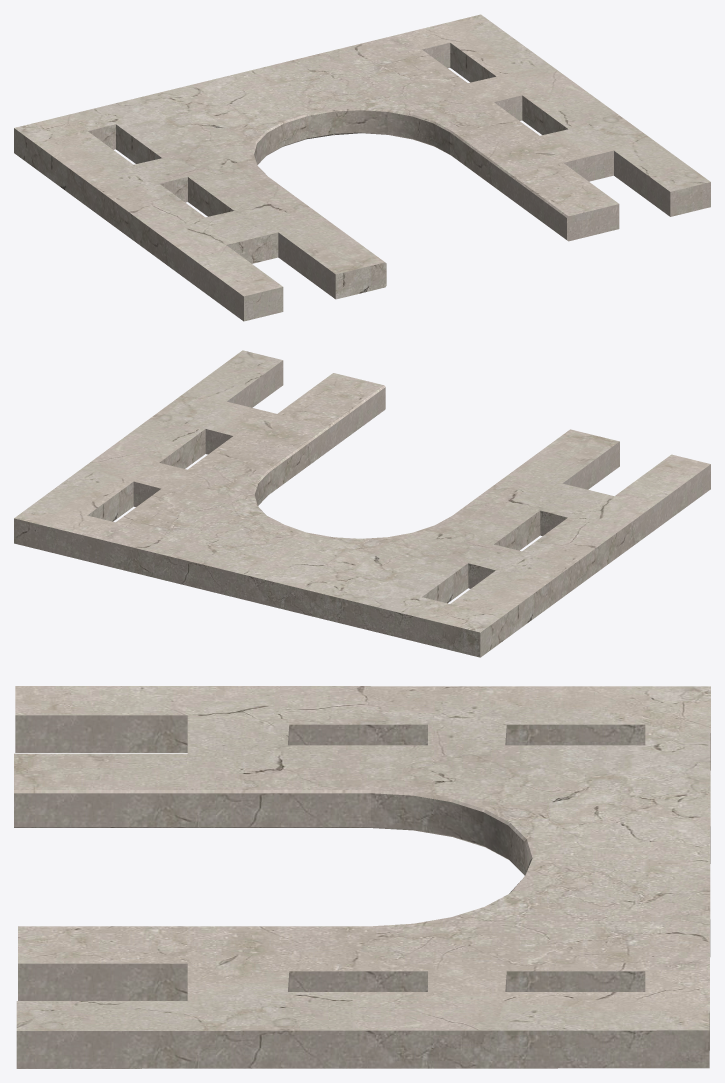
The model's file is pasted__marble_tile_243.fbx.
3 renders of one model, top to bottom at view 1: azimuth 30°, elevation 25°; view 2: azimuth 150°, elevation 25°; view 3: azimuth 270°, elevation 25°, orthographic. The views are drawn at different scales.
Visible parts, largest first — view 1: pasted__marble_tile_243; view 2: pasted__marble_tile_243; view 3: pasted__marble_tile_243.
Boxes of the visible parts, x1,y1,x2,y2 form: pasted__marble_tile_243: [14, 14, 710, 321]; pasted__marble_tile_243: [14, 350, 710, 657]; pasted__marble_tile_243: [14, 686, 710, 1068].
Size of the model in its own units: 361 by 308 by 18.5.
